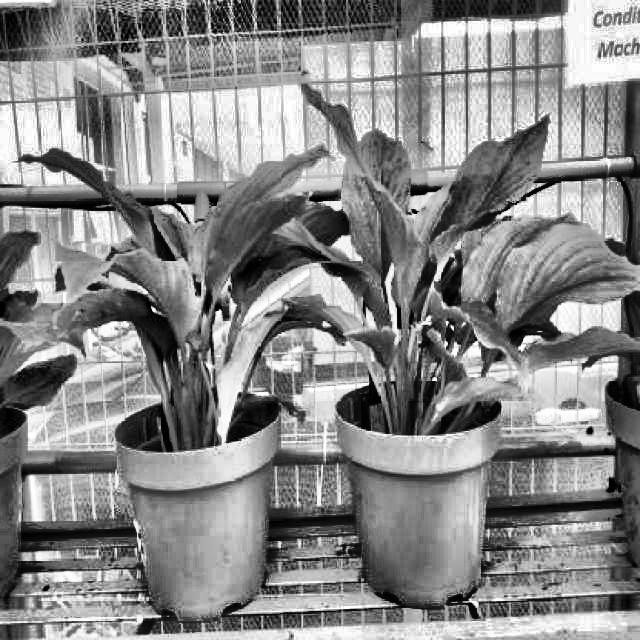plants: (271, 63, 640, 434), (18, 142, 336, 448)
